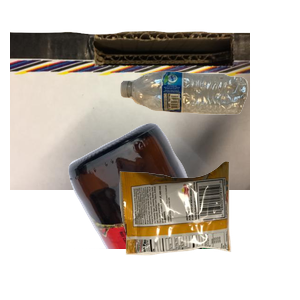cardboard: (10, 29, 250, 209)
glass: (66, 120, 300, 300)
plastic: (118, 69, 300, 176)
trash: (117, 159, 300, 300)
